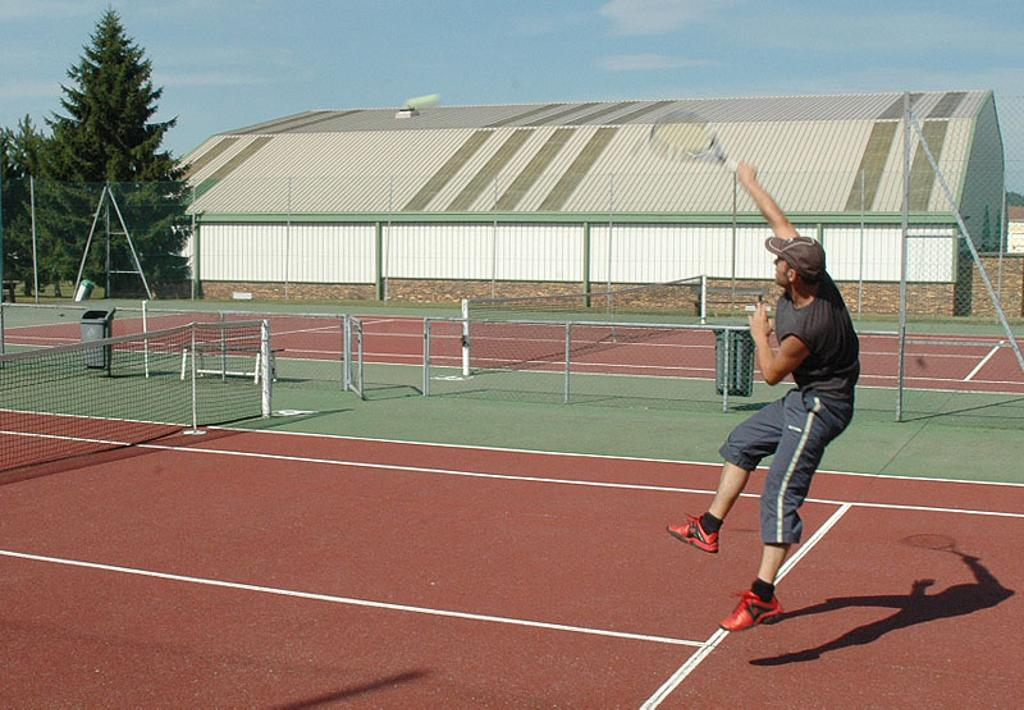face: (773, 254, 793, 286)
